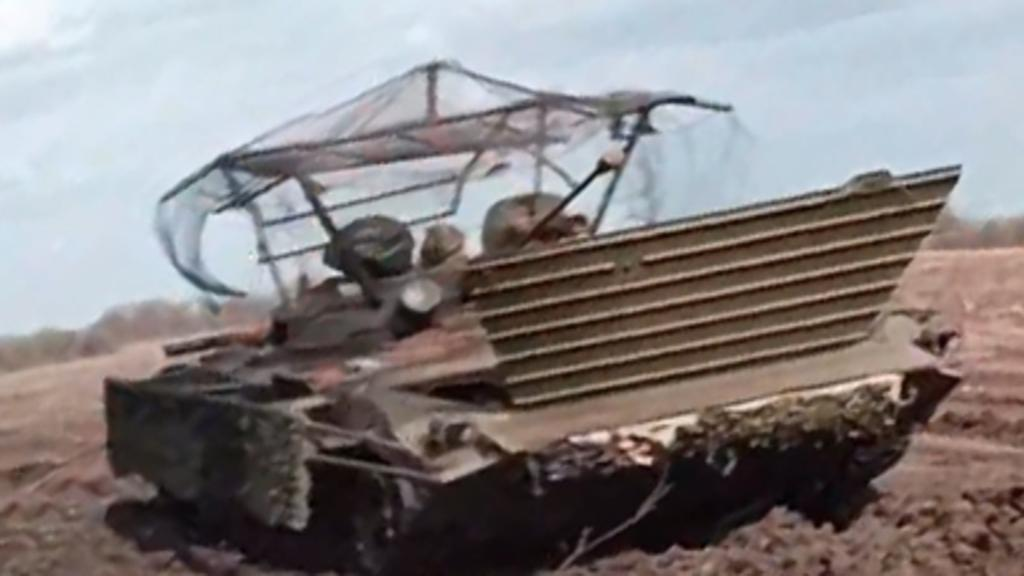APC-IFV: (86, 54, 966, 574)
